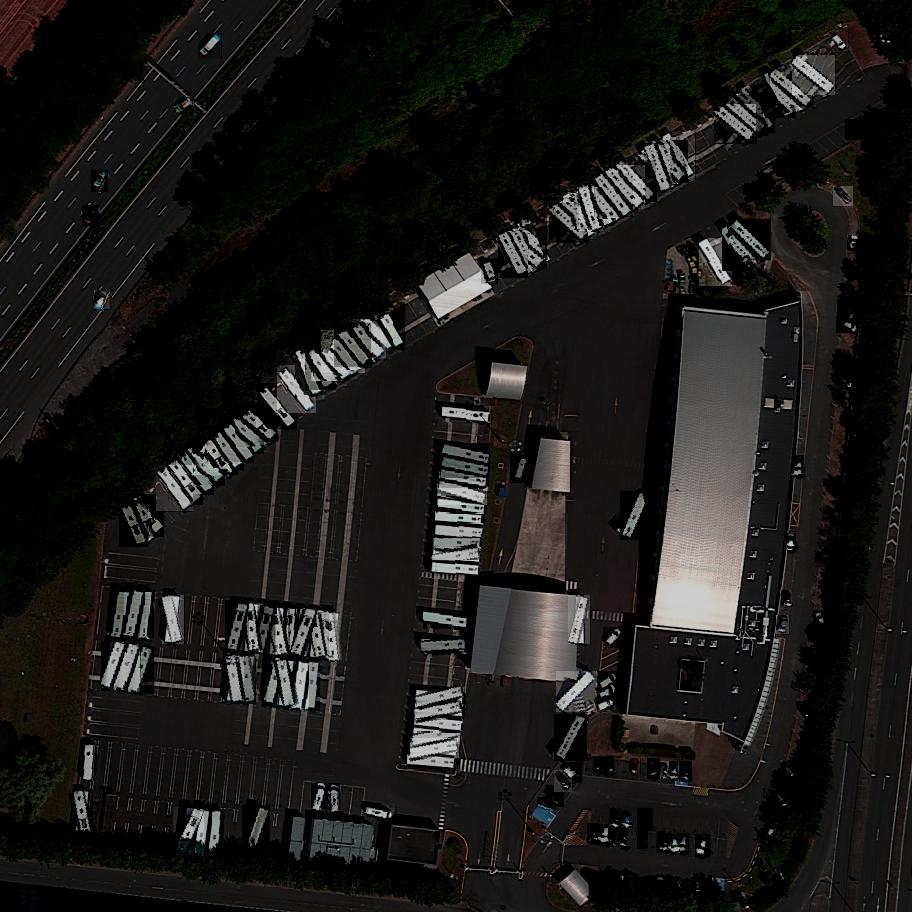large-vehicle: (321, 329, 365, 373), (184, 441, 226, 487), (256, 383, 297, 430), (277, 365, 317, 413), (312, 334, 352, 382), (176, 447, 215, 495), (166, 456, 204, 505), (648, 140, 690, 184), (614, 161, 658, 203), (604, 166, 646, 210), (557, 671, 599, 715), (791, 55, 837, 95), (155, 465, 193, 513), (714, 103, 758, 144), (235, 403, 280, 443), (724, 96, 769, 136), (192, 438, 239, 476), (218, 416, 256, 463), (730, 220, 772, 262), (345, 319, 388, 360), (770, 68, 814, 108), (501, 230, 546, 269), (594, 173, 633, 218), (335, 322, 373, 368), (563, 193, 600, 240), (207, 425, 244, 472), (125, 494, 165, 537), (372, 301, 407, 350), (740, 86, 775, 135), (548, 204, 590, 244), (554, 715, 589, 762), (229, 409, 264, 455), (765, 69, 797, 119), (698, 239, 732, 286), (306, 340, 337, 391), (173, 807, 205, 856), (360, 309, 394, 355), (664, 132, 697, 179), (722, 224, 754, 272), (498, 231, 529, 279), (295, 347, 324, 398), (621, 492, 651, 541), (226, 600, 253, 652), (243, 806, 271, 856), (520, 217, 548, 267), (114, 643, 142, 693), (291, 609, 319, 659), (644, 144, 672, 193), (101, 642, 129, 691), (119, 501, 148, 548), (128, 645, 155, 695), (437, 480, 488, 506), (262, 658, 287, 707), (441, 443, 492, 467), (579, 185, 604, 233), (254, 605, 278, 655), (440, 456, 490, 479), (591, 180, 616, 226), (416, 687, 466, 710), (569, 595, 592, 645), (163, 595, 185, 645), (123, 589, 145, 638), (192, 807, 213, 858), (73, 789, 94, 840), (439, 469, 489, 490), (224, 654, 245, 704), (268, 607, 289, 657), (412, 726, 462, 747), (309, 610, 329, 661), (410, 739, 461, 759), (111, 590, 131, 639), (414, 714, 463, 734), (414, 702, 465, 721), (322, 611, 340, 662), (291, 662, 310, 710), (278, 660, 297, 708), (437, 497, 487, 515), (442, 407, 492, 425), (408, 753, 458, 771), (432, 549, 481, 567), (238, 657, 256, 705), (434, 523, 484, 540), (424, 611, 471, 629), (244, 603, 261, 652), (434, 511, 484, 527), (430, 562, 480, 578), (139, 593, 156, 639), (421, 640, 470, 655), (210, 810, 225, 858), (307, 662, 321, 711), (285, 607, 298, 657), (434, 538, 481, 549), (84, 744, 97, 781)
small-vehicle: (198, 33, 224, 60), (510, 452, 532, 483), (311, 783, 331, 814), (845, 119, 871, 140), (364, 804, 396, 821), (598, 672, 623, 693), (838, 299, 860, 321), (836, 315, 861, 334), (481, 258, 499, 284), (603, 627, 624, 649), (561, 762, 582, 783), (833, 187, 853, 209), (695, 835, 713, 859), (555, 771, 574, 793), (638, 808, 655, 832), (831, 32, 850, 53), (91, 171, 109, 193), (82, 205, 100, 227), (546, 786, 564, 808), (615, 827, 632, 850), (327, 784, 340, 814), (656, 831, 672, 854), (597, 685, 618, 702), (607, 826, 623, 848), (776, 615, 792, 637), (95, 290, 111, 311), (598, 824, 613, 846), (667, 833, 681, 856), (174, 99, 194, 115), (597, 698, 618, 713), (619, 810, 634, 831), (679, 761, 693, 783), (814, 611, 829, 631), (609, 808, 623, 829), (667, 761, 680, 782), (677, 833, 690, 854), (847, 236, 862, 254), (538, 798, 557, 812), (629, 758, 643, 776), (648, 759, 660, 779), (657, 761, 669, 780), (588, 823, 599, 843), (794, 456, 804, 478), (637, 830, 648, 850), (603, 756, 614, 775), (782, 590, 793, 609), (787, 533, 796, 552), (594, 757, 602, 772)
